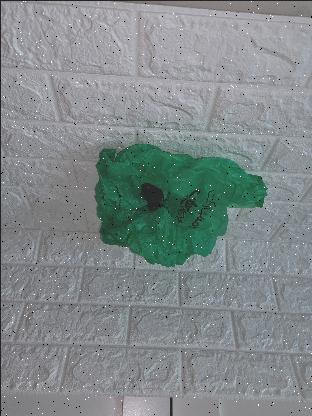Others: (88, 127, 278, 271)
